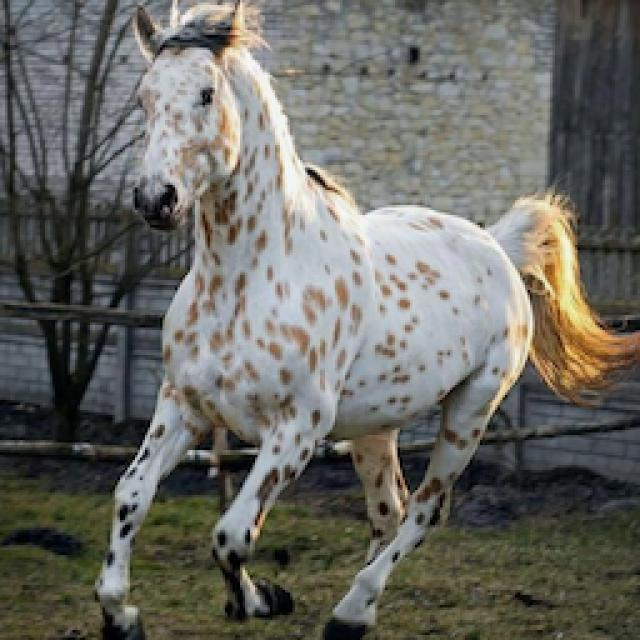Horse: (80, 0, 638, 638)
